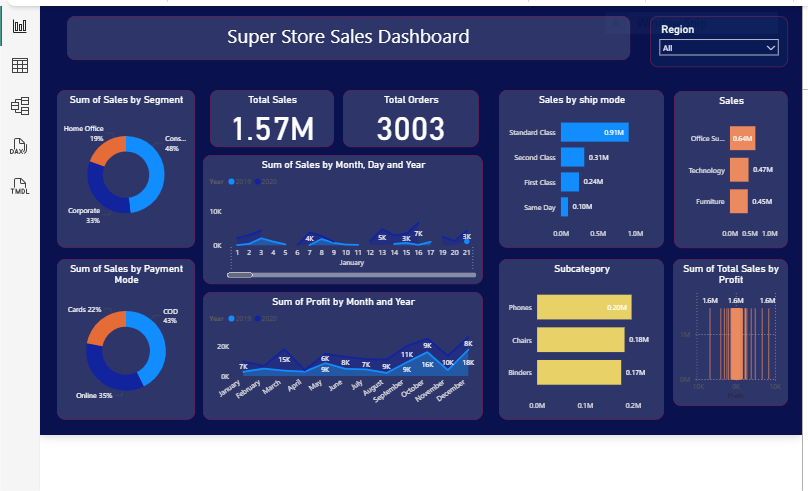

The dashboard page shown, as its layout file describes it:
{"tool":"powerbi","page":{"name":"Page 1","canvas":[1280,720],"ordinal":0},"visuals":[{"type":"clusteredBarChart","title":"Sales","fields":{"Category":["SuperStore_Sales_Dataset.Category"],"Y":["Sum(SuperStore_Sales_Dataset.Sales)"]},"box":[1065,142.8,191.5,263.7],"z":0},{"type":"barChart","title":"Subcategory","fields":{"Category":["SuperStore_Sales_Dataset.Sub-Category"],"Y":["Sum(SuperStore_Sales_Dataset.Sales)"]},"box":[771,425,277.2,270.4],"z":1000},{"type":"clusteredBarChart","title":"Sales by ship mode","fields":{"Category":["SuperStore_Sales_Dataset.Ship Mode"],"Y":["Sum(SuperStore_Sales_Dataset.Sales)"]},"box":[771,141.1,277.2,265.4],"z":2000},{"type":"stackedAreaChart","fields":{"Y":["Sum(SuperStore_Sales_Dataset.Sales)"],"Category":["SuperStore_Sales_Dataset.Order Date.Variation.Date Hierarchy.Month","SuperStore_Sales_Dataset.Order Date.Variation.Date Hierarchy.Day"],"Series":["SuperStore_Sales_Dataset.Order Date.Variation.Date Hierarchy.Year"]},"box":[274.1,250,470.4,216.7],"z":3000},{"type":"stackedAreaChart","fields":{"Category":["SuperStore_Sales_Dataset.Order Date.Variation.Date Hierarchy.Month","SuperStore_Sales_Dataset.Order Date.Variation.Date Hierarchy.Day"],"Series":["SuperStore_Sales_Dataset.Order Date.Variation.Date Hierarchy.Year"],"Y":["Sum(SuperStore_Sales_Dataset.Profit)"]},"box":[273.8,480.4,470.3,215],"z":4000},{"type":"donutChart","fields":{"Category":["SuperStore_Sales_Dataset.Segment"],"Y":["Sum(SuperStore_Sales_Dataset.Sales)"]},"box":[28.6,141.1,231.8,265.4],"z":5000},{"type":"donutChart","fields":{"Y":["Sum(SuperStore_Sales_Dataset.Sales)"],"Category":["SuperStore_Sales_Dataset.Payment Mode"]},"box":[28.6,425,231.8,270.4],"z":6000},{"type":"slicer","fields":{"Values":["SuperStore_Sales_Dataset.Region"]},"box":[1024.7,16.8,231.8,85.7],"z":7000},{"type":"textbox","box":[45.4,16.8,945.7,73.9],"z":8000},{"type":"card","title":"Total Sales","fields":{"Values":["Sum(SalesForecast.Total Sales)"]},"box":[285.6,141.1,208.3,95.7],"z":10000},{"type":"card","title":"Total Orders","fields":{"Values":["SalesForecast.Total Orders"]},"box":[509.3,140.7,227.8,96.3],"z":11000},{"type":"columnChart","fields":{"Category":["SuperStore_Sales_Dataset.Profit"],"Y":["Sum(SalesForecast.Total Sales)"]},"box":[1063.3,425,193.2,246.9],"z":13000}]}

Visuals, with their boxes on the page's 1280x720 design canvas (x1, y1, x2, y2). These are canvas units, not pixel positions in the 808x491 screenshot, which may show the page scaled, cropped or inside an application window:
"Sales" clusteredBarChart: [1065, 143, 1256, 406]
"Subcategory" barChart: [771, 425, 1048, 695]
"Sales by ship mode" clusteredBarChart: [771, 141, 1048, 406]
stackedAreaChart - Sum(SuperStore_Sales_Dataset.Sales) x SuperStore_Sales_Dataset.Order Date.Variation.Date Hierarchy.Month: [274, 250, 744, 467]
stackedAreaChart - SuperStore_Sales_Dataset.Order Date.Variation.Date Hierarchy.Month x SuperStore_Sales_Dataset.Order Date.Variation.Date Hierarchy.Day: [274, 480, 744, 695]
donutChart - SuperStore_Sales_Dataset.Segment x Sum(SuperStore_Sales_Dataset.Sales): [29, 141, 260, 406]
donutChart - Sum(SuperStore_Sales_Dataset.Sales) x SuperStore_Sales_Dataset.Payment Mode: [29, 425, 260, 695]
slicer - SuperStore_Sales_Dataset.Region: [1025, 17, 1256, 102]
textbox: [45, 17, 991, 91]
"Total Sales" card: [286, 141, 494, 237]
"Total Orders" card: [509, 141, 737, 237]
columnChart - SuperStore_Sales_Dataset.Profit x Sum(SalesForecast.Total Sales): [1063, 425, 1256, 672]
